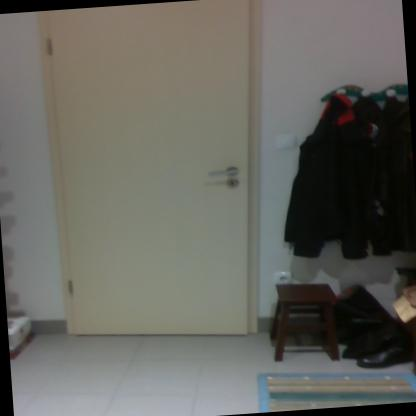closed: (30, 0, 281, 372)
